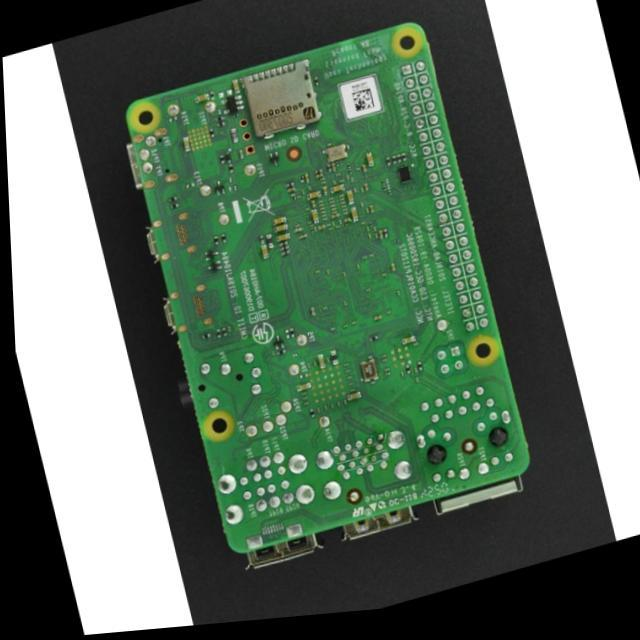Raspberry-Pi-4-B: (127, 24, 529, 569)
